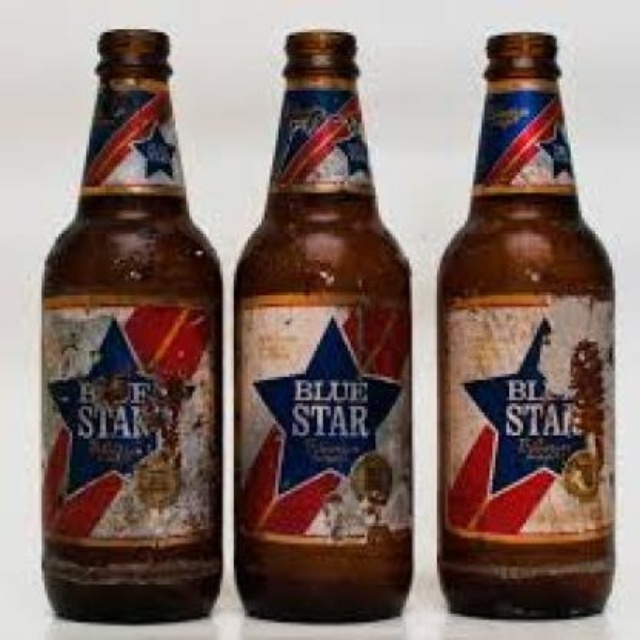trash: (43, 29, 220, 620), (235, 31, 411, 618), (438, 32, 612, 615)
